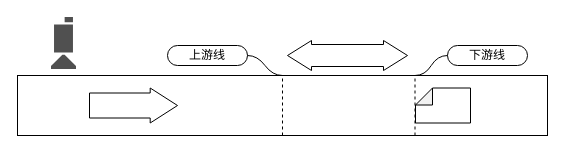
Image size: 565x154. Some labels were removed from this diagram. Here are the shapes that lost their labels. From the top down, the box of each, then its label:
(286, 40, 408, 70): 工作区
(88, 87, 178, 123): 传送带
